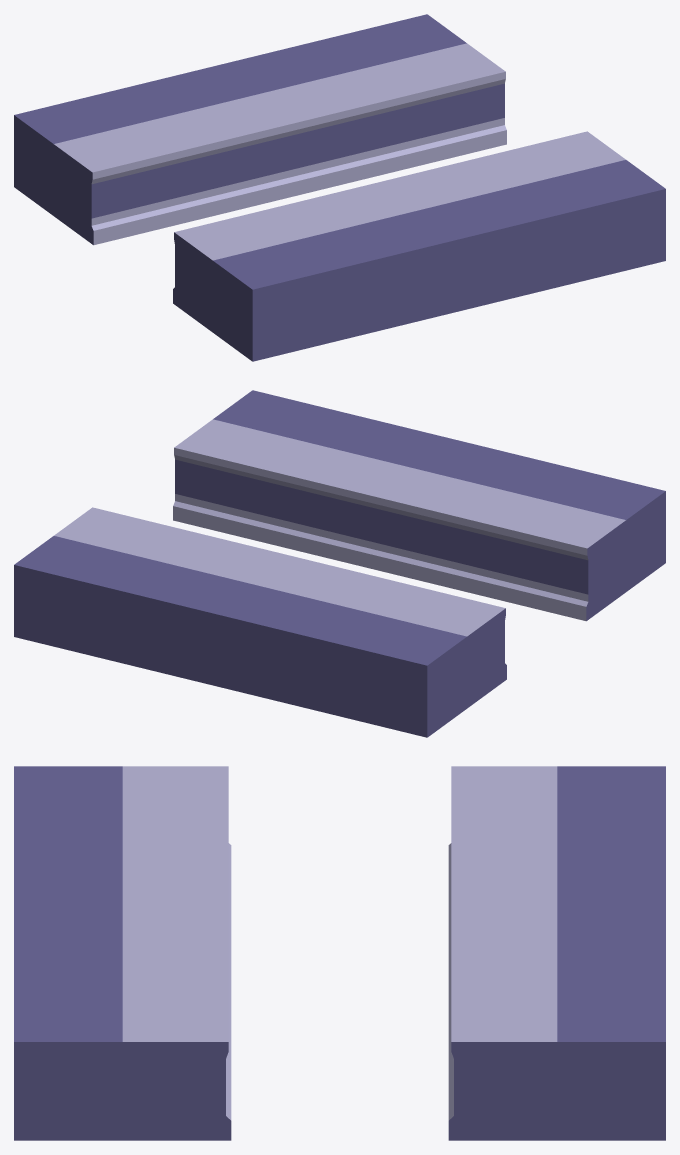
The model's file is 2way.glb.
3 renders of one model, top to bottom at view 1: azimuth 30°, elevation 25°; view 2: azimuth 150°, elevation 25°; view 3: azimuth 270°, elevation 25°, orthographic. The views are drawn at different scales.
Visible parts, largest first — view 1: mergedBlocks(Clone); view 2: mergedBlocks(Clone); view 3: mergedBlocks(Clone).
Boxes of the visible parts, bbox=[...] form: mergedBlocks(Clone): bbox=[14, 14, 665, 361]; mergedBlocks(Clone): bbox=[14, 390, 665, 737]; mergedBlocks(Clone): bbox=[14, 766, 665, 1140].
Bounding box in the file's own units: 6 × 1 × 6.
